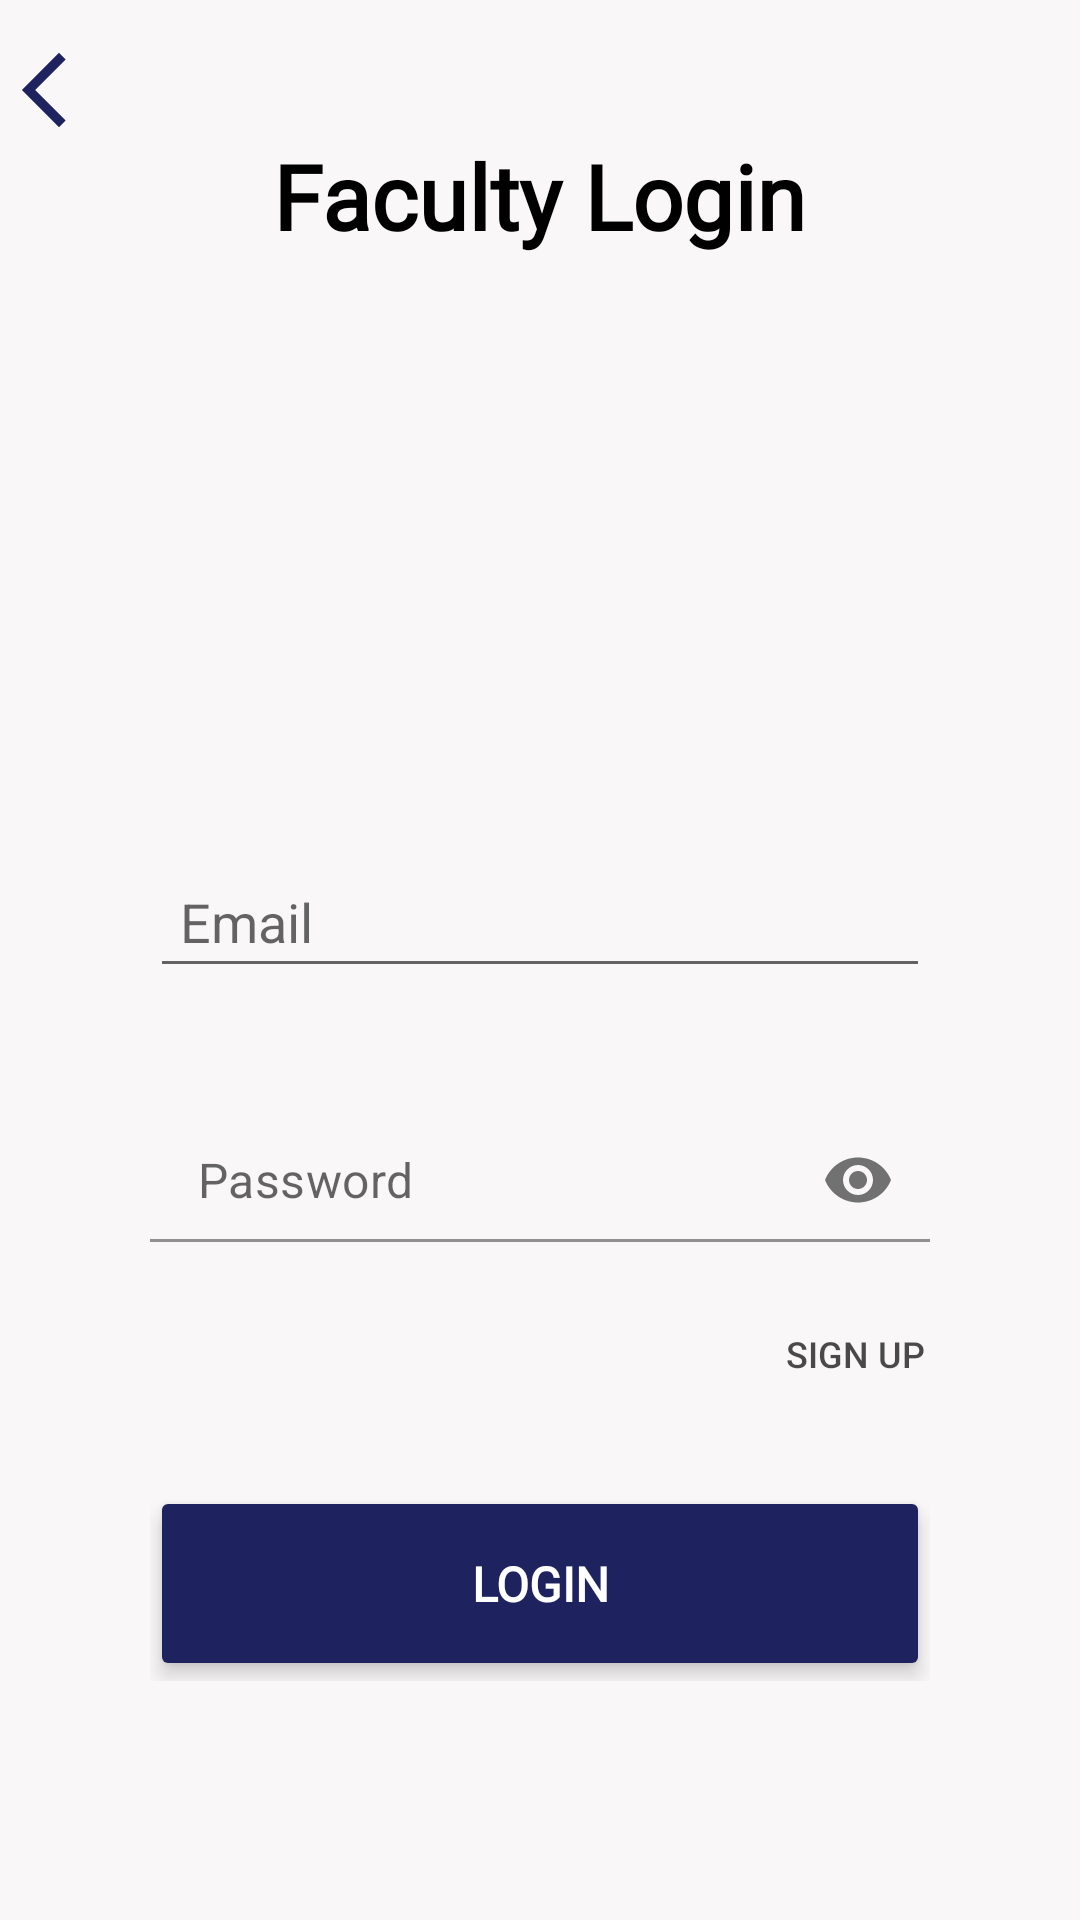

Named icons in this screenshot (1080px×1920px) and their centers, (x=x, y=y):
arrow back: (x=44, y=90)
